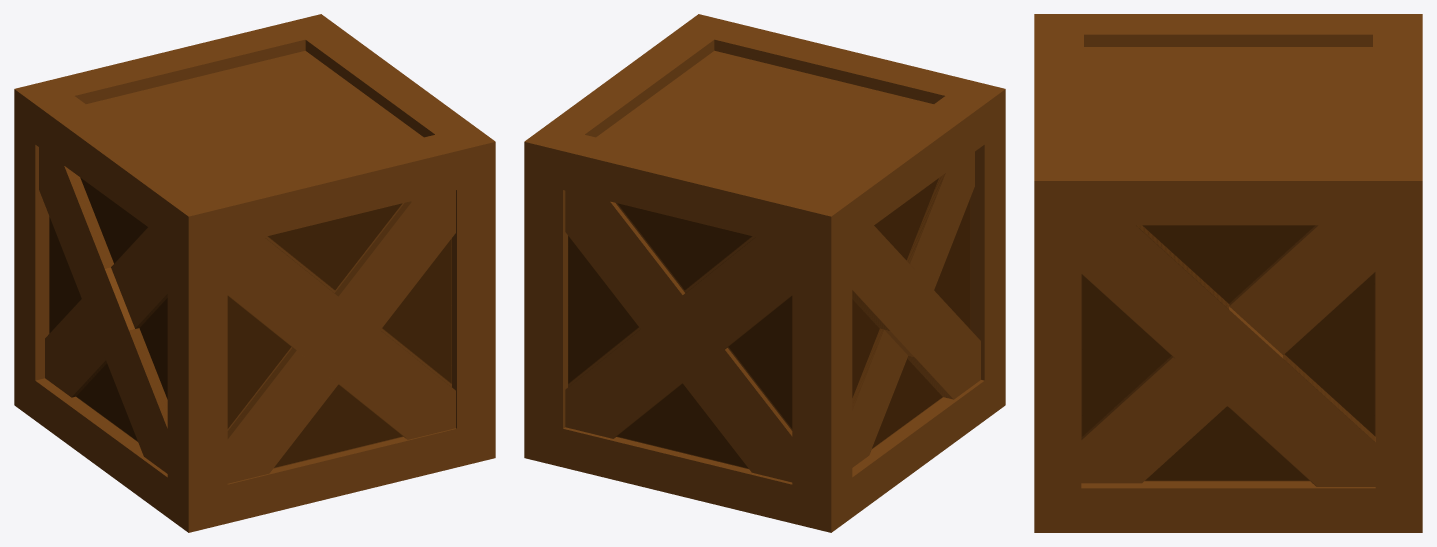
Rendered from _Crate Final.fbx.
The picture shows the model from 3 angles, left to right: view 1: azimuth 30°, elevation 25°; view 2: azimuth 150°, elevation 25°; view 3: azimuth 270°, elevation 25°; orthographic projection. The views are drawn at different scales.
Visible parts, largest first — view 1: Crate; view 2: Crate; view 3: Crate.
Boxes of the visible parts, bbox=[...] form: Crate: bbox=[14, 14, 495, 532]; Crate: bbox=[524, 14, 1005, 532]; Crate: bbox=[1034, 14, 1422, 532].
Bounding box in the file's own units: 5.22 × 5.14 × 5.14.
